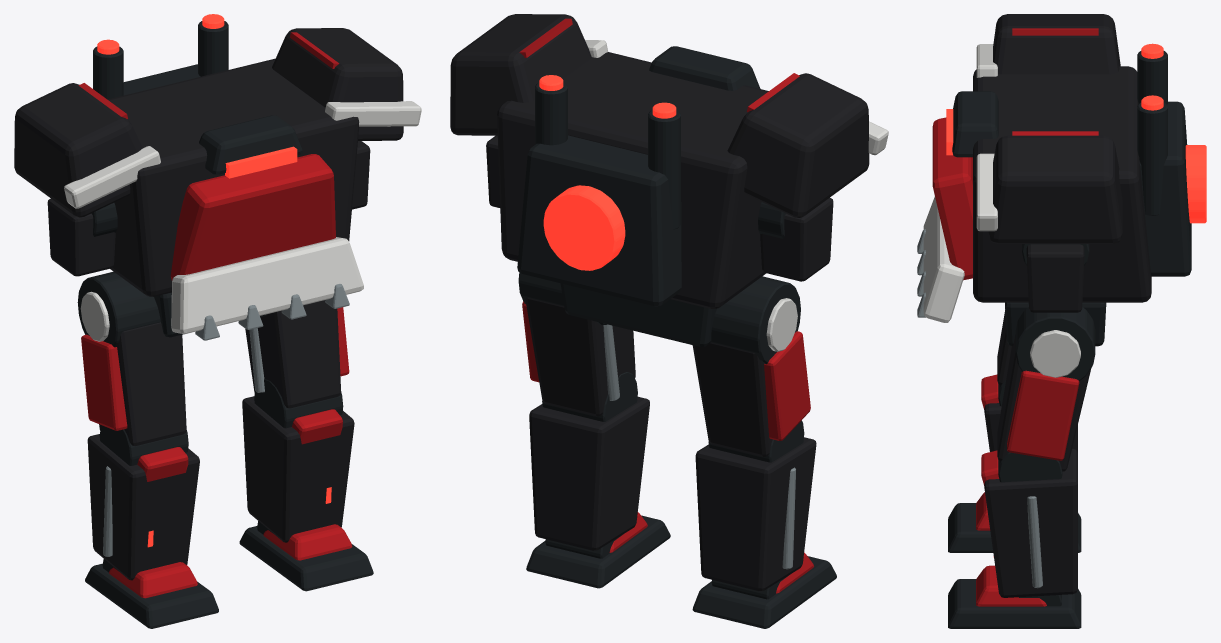
File: mech_hound.glb
3 views of the same model, side by side, from view 1: azimuth 30°, elevation 25°; view 2: azimuth 150°, elevation 25°; view 3: azimuth 270°, elevation 25° (orthographic). The views are drawn at different scales.
Visible parts, largest first — view 1: core, chest_plate, shin_armor_R, ram_plate, pauldron_L, shin_armor_L, pauldron_R, thigh_armor_R, thigh_armor_L, foot_sole_R, foot_sole_L, upper_arm_L (+22 smaller); view 2: core, backpack, shin_armor_R, pauldron_L, shin_armor_L, pauldron_R, thigh_armor_R, thigh_armor_L, reactor, pelvis, hip_joint_L, foot_sole_R (+14 smaller); view 3: core, pauldron_R, shin_armor_R, pauldron_L, backpack, thigh_plate_R, chest_plate, foot_sole_R, upper_arm_R, ram_plate, hip_joint_R, exhaust_pipe_R (+19 smaller).
Part boxes in pixels (<box>): core: <box>107,58,359,296</box>; chest_plate: <box>170,154,335,280</box>; shin_armor_R: <box>242,396,354,542</box>; ram_plate: <box>171,237,363,334</box>; pauldron_L: <box>14,83,142,217</box>; shin_armor_L: <box>87,434,199,580</box>; pauldron_R: <box>272,28,403,140</box>; thigh_armor_R: <box>245,300,341,408</box>; thigh_armor_L: <box>99,322,186,446</box>; foot_sole_R: <box>239,526,373,591</box>; foot_sole_L: <box>85,563,218,628</box>; upper_arm_L: <box>47,198,115,276</box>; core: <box>497,52,768,308</box>; backpack: <box>517,135,681,306</box>; shin_armor_R: <box>529,396,649,550</box>; pauldron_L: <box>727,73,869,217</box>; shin_armor_L: <box>695,437,816,591</box>; pauldron_R: <box>450,14,591,135</box>; thigh_armor_R: <box>525,297,635,416</box>; thigh_armor_L: <box>692,342,772,456</box>; reactor: <box>543,185,625,270</box>; pelvis: <box>560,283,716,346</box>; hip_joint_L: <box>711,276,800,364</box>; foot_sole_R: <box>526,515,670,588</box>; core: <box>973,66,1151,302</box>; pauldron_R: <box>988,135,1122,243</box>; shin_armor_R: <box>984,448,1077,597</box>; pauldron_L: <box>993,14,1120,74</box>; backpack: <box>1139,101,1191,276</box>; thigh_plate_R: <box>1007,370,1079,460</box>; chest_plate: <box>932,117,972,280</box>; foot_sole_R: <box>948,579,1081,628</box>; upper_arm_R: <box>1026,244,1084,312</box>; ram_plate: <box>923,196,964,322</box>; hip_joint_R: <box>1015,307,1095,380</box>; exhaust_pipe_R: <box>1137,102,1167,215</box>.
Size of the model in its own units: 5.66 by 7.69 by 4.02.
